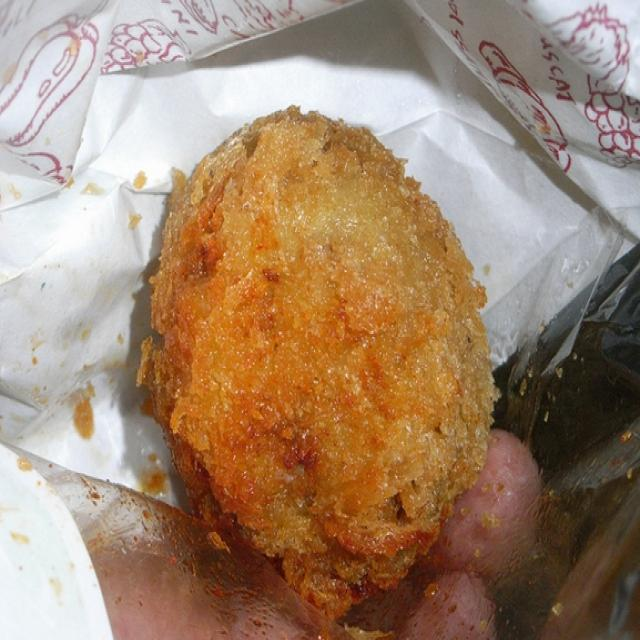炸货点心: (108, 80, 548, 578)
